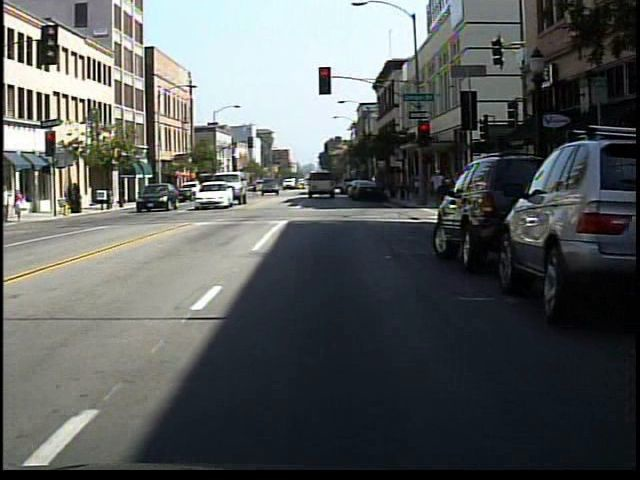person: (428, 166, 448, 207), (9, 185, 29, 224), (9, 183, 27, 226), (246, 173, 263, 201)
